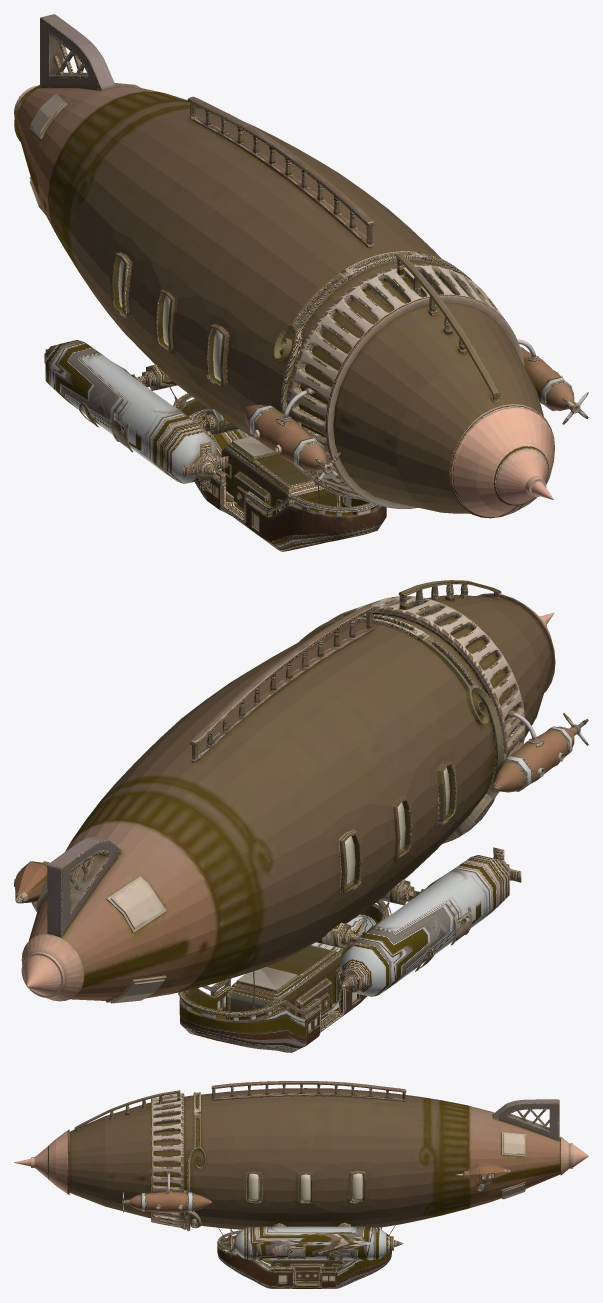
Rendered from AirshipFinal.glb.
3 views of the same model, one above another, from view 1: azimuth 30°, elevation 25°; view 2: azimuth 150°, elevation 25°; view 3: azimuth 270°, elevation 25° (orthographic). The views are drawn at different scales.
Parts seen in each view (by area): view 1: Cube, Cylinder.004; view 2: Cube, Cylinder.004; view 3: Cube, Cylinder.004.
Part boxes in pixels (left/top/right/bottom): Cube: left=14, top=14, right=588, bottom=551; Cylinder.004: left=118, top=259, right=350, bottom=528; Cube: left=14, top=580, right=588, bottom=1052; Cylinder.004: left=217, top=767, right=541, bottom=1031; Cube: left=14, top=1081, right=588, bottom=1288; Cylinder.004: left=157, top=1173, right=491, bottom=1282.
Bounding box in the file's own units: 1.77 × 1.82 × 4.77.
Materials: 2 (1 with a texture image).
